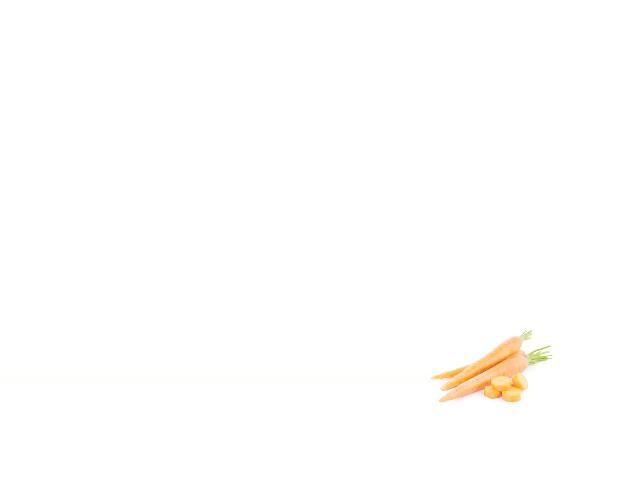carrot: (438, 355, 533, 405)
